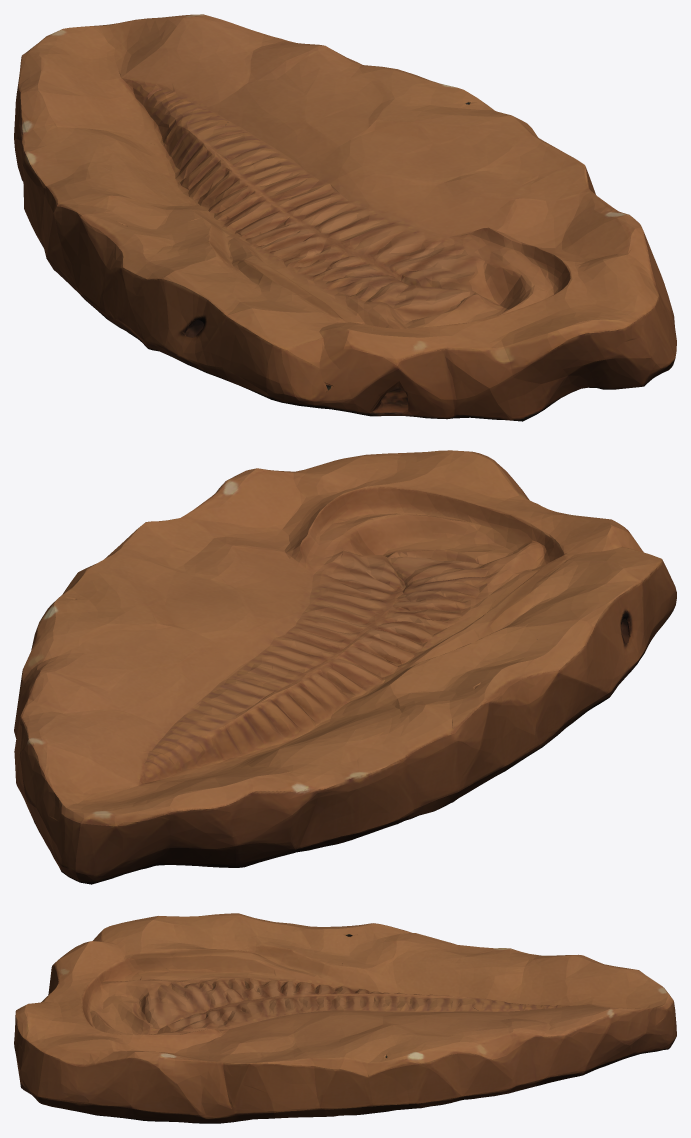
3 renders of one model, top to bottom at view 1: azimuth 30°, elevation 25°; view 2: azimuth 150°, elevation 25°; view 3: azimuth 270°, elevation 25°, orthographic. The views are drawn at different scales.
Visible parts, largest first — view 1: world; view 2: world; view 3: world.
Part boxes in pixels (bbox=[...]): world: bbox=[14, 14, 676, 421]; world: bbox=[14, 450, 676, 884]; world: bbox=[14, 913, 676, 1123].
Size of the model in its own units: 0.0321 by 0.00651 by 0.055.
1 material, 1 textured.
